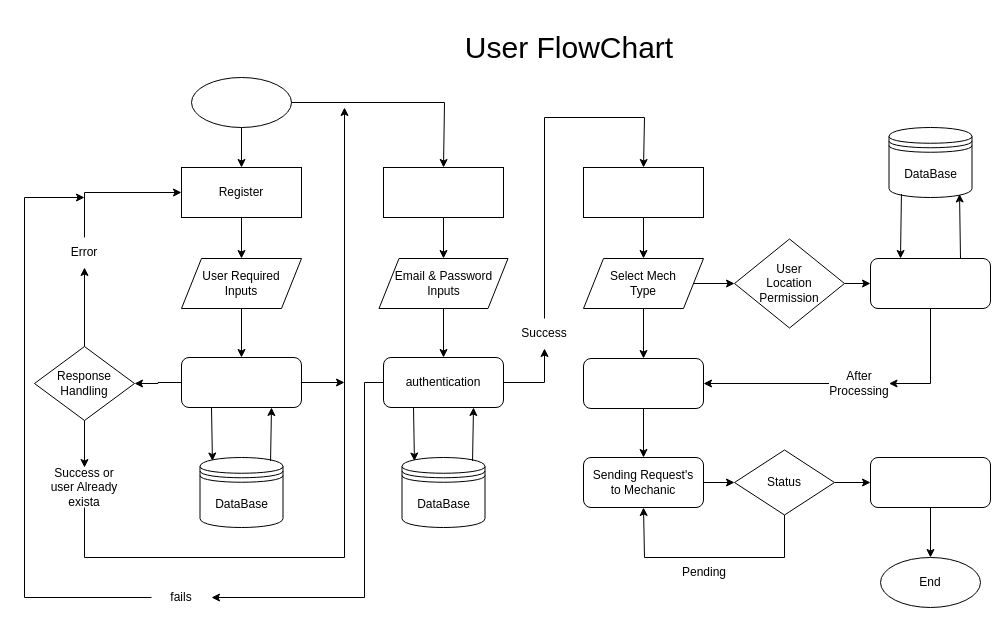
Image size: 1008x629. Some labels were removed from this diagram. Here are the shapes that lost their labels. From the top down, the centre of each, then its label:
the point at 241,102: Home
the point at 443,192: Login
the point at 643,192: DashBoard
the point at 930,283: Analyzing the Nearest Mechanics
the point at 241,382: Analysis
the point at 643,383: Resultant Mechanic Details
the point at 930,482: Provide Feedback
